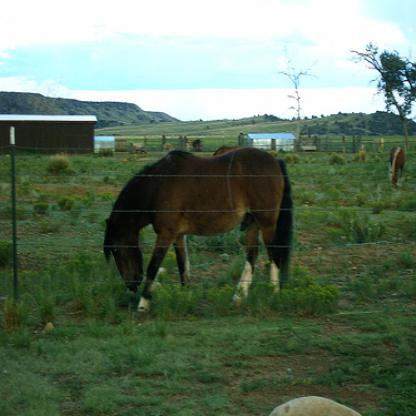horse: (102, 147, 292, 316), (390, 145, 404, 189)
